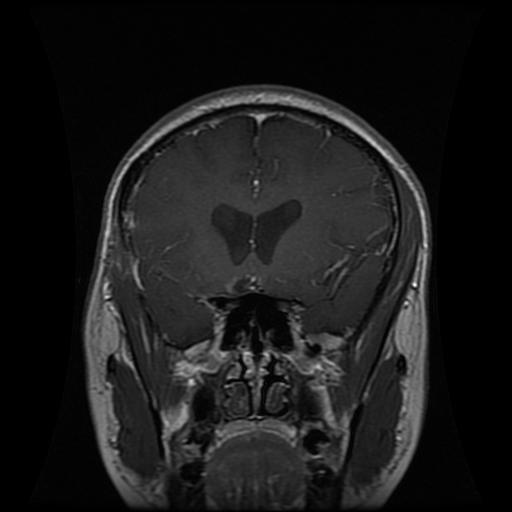Gliomia_tumour: (221, 271, 264, 294)
